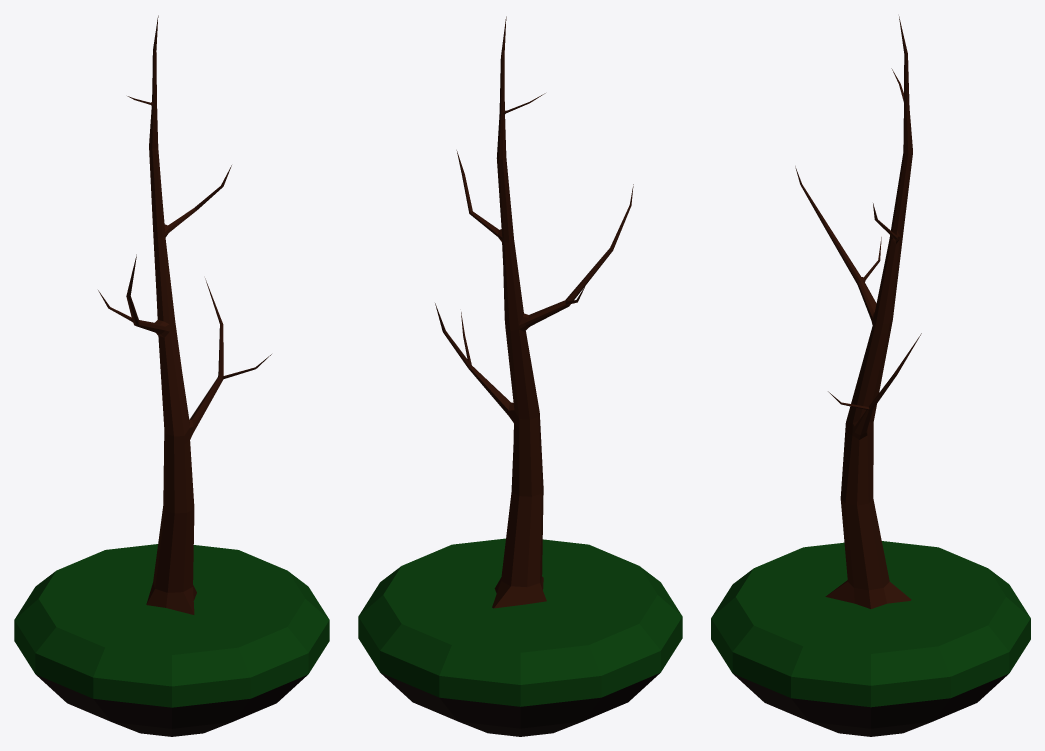
Rendered from bueno5.obj.
3 views of the same model, side by side, from view 1: azimuth 30°, elevation 25°; view 2: azimuth 150°, elevation 25°; view 3: azimuth 270°, elevation 25° (orthographic). The views are drawn at different scales.
Parts seen in each view (by area): view 1: Cylinder.001, Cylinder; view 2: Cylinder.001, Cylinder; view 3: Cylinder.001, Cylinder.
Part boxes in pixels (left/top/right/bottom): Cylinder.001: left=14, top=544, right=329, bottom=736; Cylinder: left=98, top=15, right=271, bottom=614; Cylinder.001: left=358, top=538, right=682, bottom=736; Cylinder: left=435, top=16, right=633, bottom=608; Cylinder.001: left=711, top=541, right=1030, bottom=736; Cylinder: left=795, top=16, right=921, bottom=608.
Bounding box in the file's own units: 4.76 × 11.43 × 4.76.
